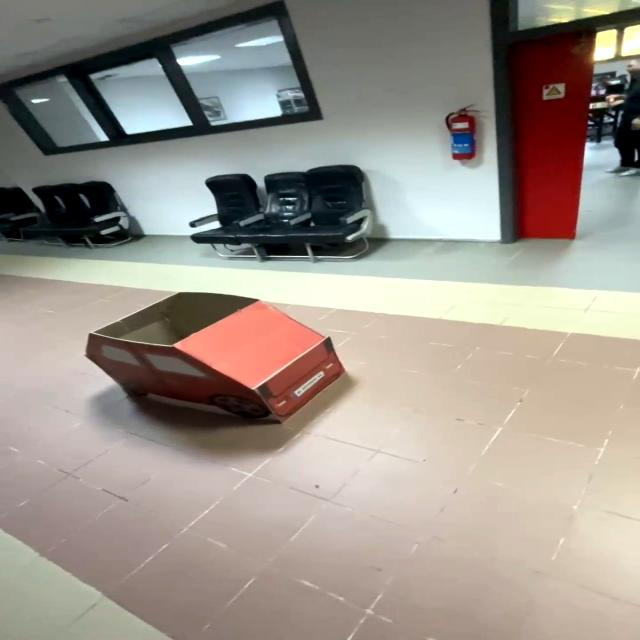red_car: (62, 276, 387, 441)
